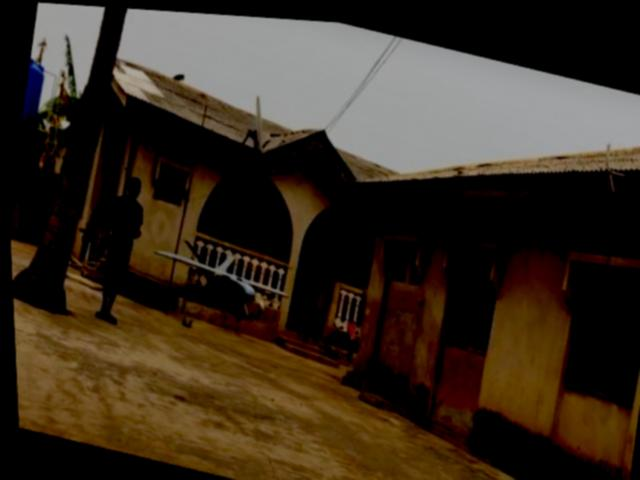iha: (137, 227, 297, 328)
